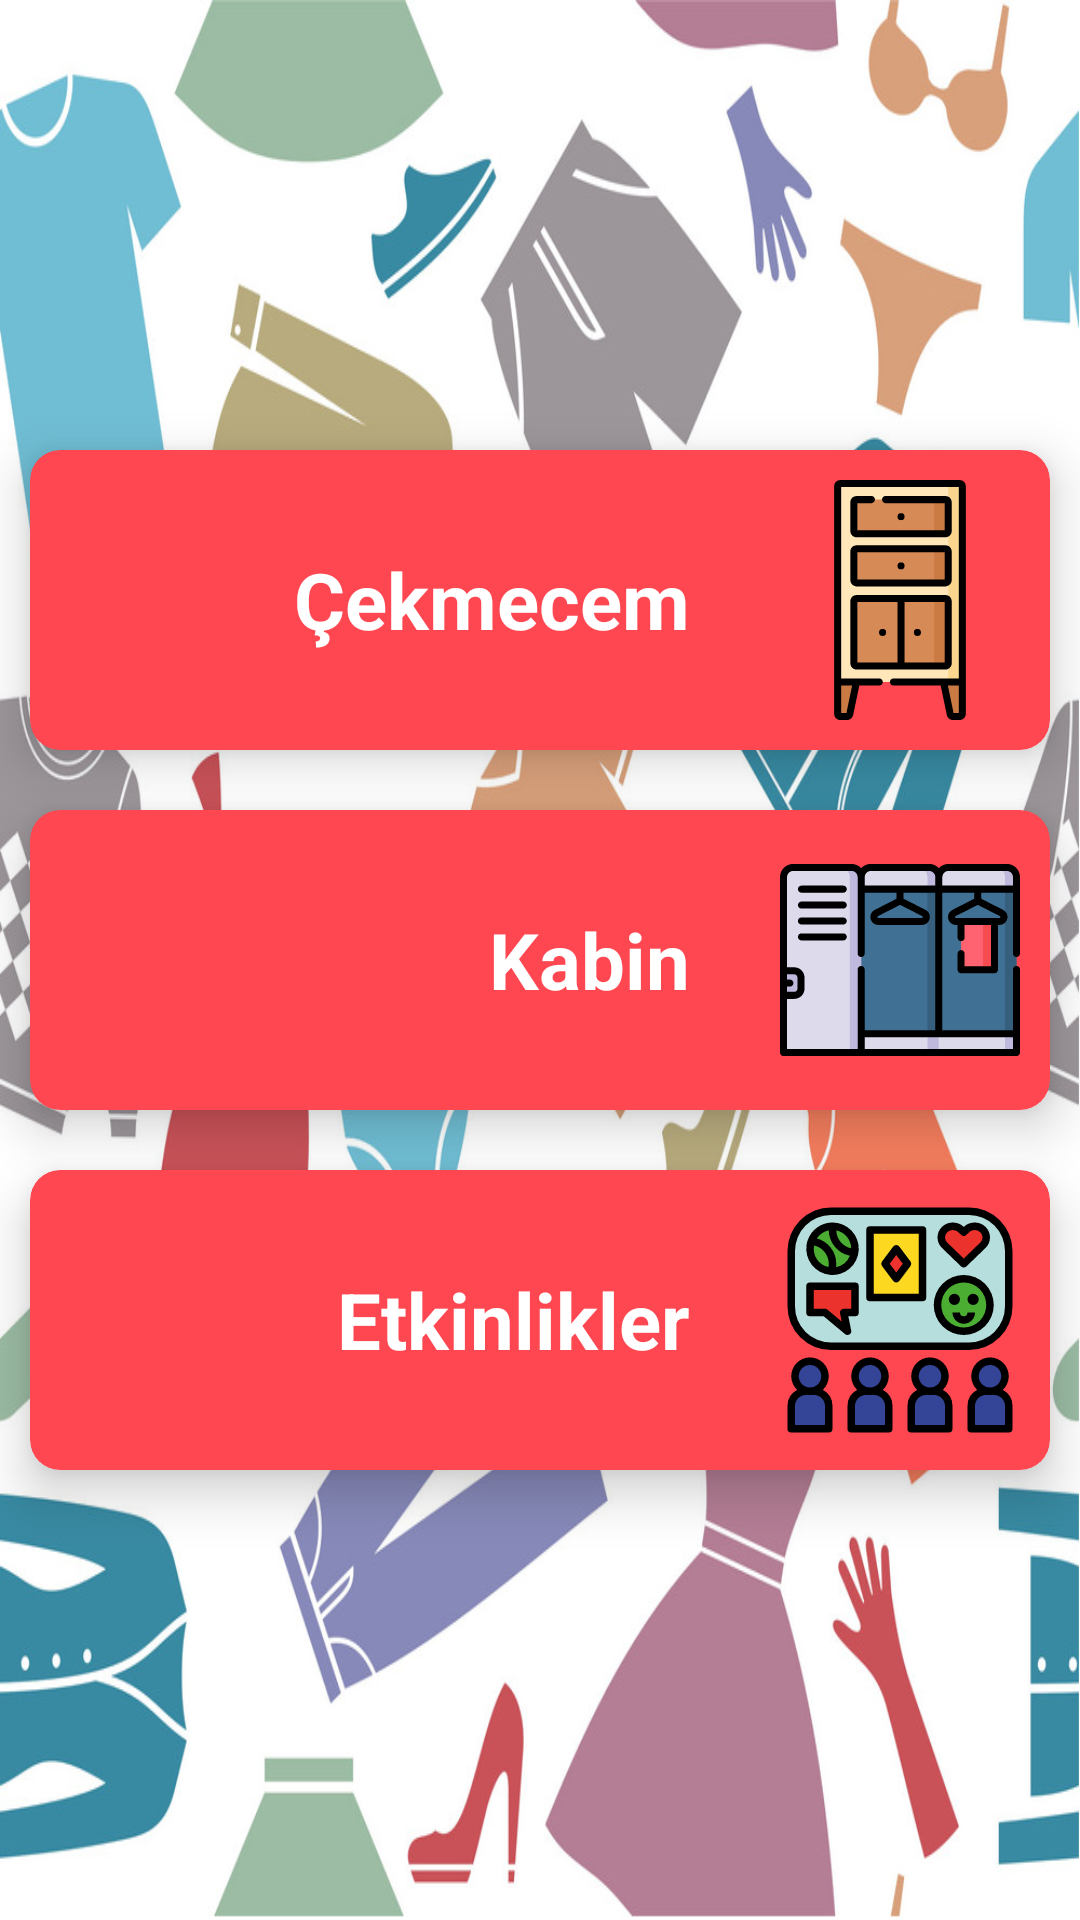

Named icons in this screenshot (1080px x 1920px) and their centers, (x,y):
drawers: (900,600)
dressing room: (900,960)
social: (900,1320)
